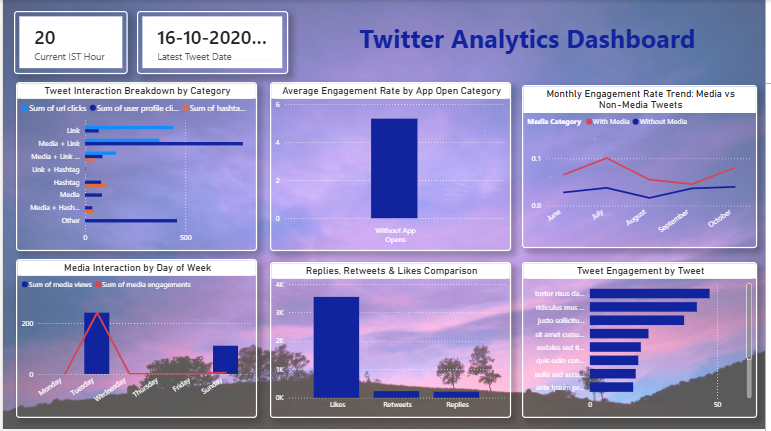

The page's visual inventory and layout, read from the dashboard file:
{"tool":"powerbi","page":{"name":"Tweet Analysis","canvas":[1280,720],"ordinal":0},"visuals":[{"type":"clusteredBarChart","title":"Tweet Interaction Breakdown by Category","fields":{"Category":["Tweet.Tweet Category"],"Y":["Sum(Tweet.url clicks)","Sum(Tweet.user profile clicks)","Sum(Tweet.hashtag clicks)"]},"box":[21.8,137.7,404.8,283.9],"z":0},{"type":"clusteredColumnChart","fields":{"Category":["Tweet.App Open Category"],"Y":["Tweet.Average Engagement Rate"]},"box":[448.5,137.7,404.8,283.9],"z":1000},{"type":"cardVisual","fields":{"Data":["Tweet.Current IST Hour"]},"box":[18.5,18.5,191.5,105.8],"z":2000},{"type":"lineClusteredColumnComboChart","title":"Media Interaction by Day of Week","fields":{"Category":["Tweet.Day of Week"],"Y":["Sum(Tweet.media views)"],"Y2":["Sum(Tweet.media engagements)"]},"box":[21.8,435.1,404.8,267.1],"z":3000},{"type":"cardVisual","fields":{"Data":["Tweet.Latest Tweet Date"]},"box":[225.1,18.5,253.6,105.8],"z":4000},{"type":"clusteredColumnChart","title":"Replies, Retweets & Likes Comparison","fields":{"Category":["Engagement Metrics.Metric"],"Y":["Engagement Metrics.Engagement Value"]},"box":[448.5,440.1,404.8,262],"z":5000},{"type":"lineChart","title":"Monthly Engagement Rate Trend: Media vs Non-Media Tweets","fields":{"Category":["Tweet.Month Name"],"Y":["Avg(Tweet.engagement rate)"],"Series":["Tweet.Media Category"]},"box":[871.8,142.8,394.8,273.8],"z":6000},{"type":"barChart","fields":{"Category":["Tweet.Tweet"],"Y":["Tweet.Tweet Engagement"]},"box":[871.8,440.1,394.8,262],"z":7000},{"type":"textbox","box":[495.5,18.5,771,105.8],"z":8000}]}

Visuals, with their boxes in screenshot pixels (x1, y1, x2, y2), scaled from the page's 1280x720 canvas onto the 771x431 screenshot:
"Tweet Interaction Breakdown by Category" clusteredBarChart: 13, 82, 257, 252
clusteredColumnChart - Tweet.App Open Category x Tweet.Average Engagement Rate: 270, 82, 514, 252
cardVisual - Tweet.Current IST Hour: 11, 11, 126, 74
"Media Interaction by Day of Week" lineClusteredColumnComboChart: 13, 260, 257, 420
cardVisual - Tweet.Latest Tweet Date: 136, 11, 288, 74
"Replies, Retweets & Likes Comparison" clusteredColumnChart: 270, 263, 514, 420
"Monthly Engagement Rate Trend: Media vs Non-Media Tweets" lineChart: 525, 85, 763, 249
barChart - Tweet.Tweet x Tweet.Tweet Engagement: 525, 263, 763, 420
textbox: 298, 11, 763, 74
